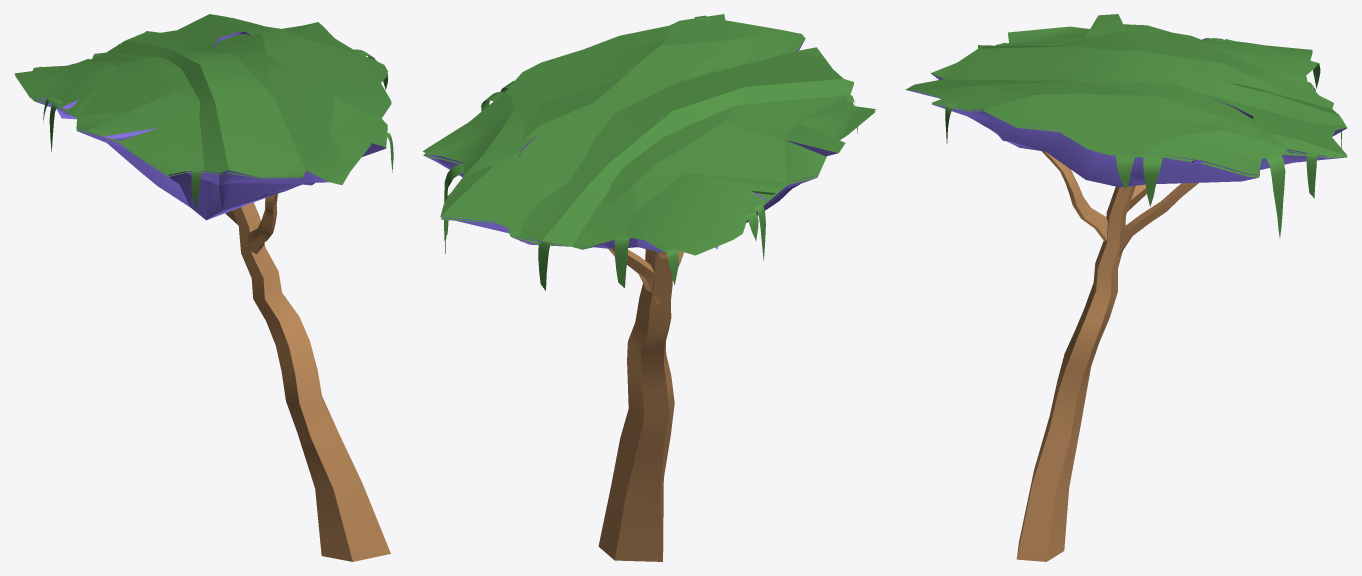
Rendered from tree_A_canopy_A_B_solo.fbx.
The picture shows the model from 3 angles, left to right: view 1: azimuth 30°, elevation 25°; view 2: azimuth 150°, elevation 25°; view 3: azimuth 270°, elevation 25°; orthographic projection. The views are drawn at different scales.
Parts seen in each view (by area): view 1: tree_A_canopy_A_B_leveled, tree_A_canopy_A_B_holed, tree_A_canopy_B_trunk_A, tree_A_canopy_A_B, tree_A_canopy_B_trunk_B; view 2: tree_A_canopy_A_B_leveled, tree_A_canopy_A_B_holed, tree_A_canopy_A_B, tree_A_canopy_B_trunk_A, tree_A_canopy_B_trunk_C, tree_A_canopy_A_B_liana_F; view 3: tree_A_canopy_A_B_leveled, tree_A_canopy_A_B_holed, tree_A_canopy_B_trunk_A, tree_A_canopy_A_B, tree_A_canopy_B_trunk_B, tree_A_canopy_B_trunk_C, tree_A_canopy_A_B_liana_A, tree_A_canopy_A_B_liana_B.
Boxes of the visible parts, box(x1,y1,x2,y2) form: tree_A_canopy_A_B_leveled: box(14, 33, 391, 215); tree_A_canopy_A_B_holed: box(15, 14, 391, 185); tree_A_canopy_B_trunk_A: box(232, 202, 390, 561); tree_A_canopy_A_B: box(35, 33, 380, 220); tree_A_canopy_B_trunk_B: box(247, 193, 277, 254); tree_A_canopy_A_B_leveled: box(423, 39, 875, 253); tree_A_canopy_A_B_holed: box(423, 14, 875, 255); tree_A_canopy_A_B: box(440, 79, 846, 246); tree_A_canopy_B_trunk_A: box(598, 249, 674, 561); tree_A_canopy_B_trunk_C: box(608, 248, 660, 304); tree_A_canopy_A_B_liana_F: box(614, 233, 629, 287); tree_A_canopy_A_B_leveled: box(906, 14, 1347, 187); tree_A_canopy_A_B_holed: box(905, 35, 1347, 175); tree_A_canopy_B_trunk_A: box(1016, 185, 1135, 561); tree_A_canopy_A_B: box(967, 31, 1346, 187); tree_A_canopy_B_trunk_B: box(1041, 151, 1107, 241); tree_A_canopy_B_trunk_C: box(1118, 183, 1198, 255); tree_A_canopy_A_B_liana_A: box(1262, 151, 1285, 238); tree_A_canopy_A_B_liana_B: box(1143, 153, 1163, 206).
Bounding box in the file's own units: 393 × 576 × 516.
